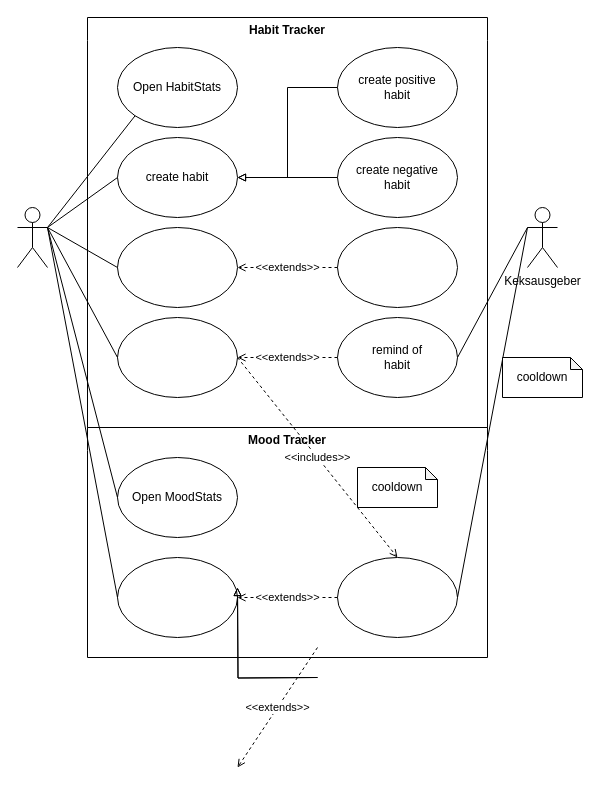
This 600x793 diagram has some shape labels left out. The centre of each missing label's shape, as x and y in pixels:
ask Mood: pixel 397 597
check habit: pixel 177 357
delete habit: pixel 397 267
edit habit: pixel 177 267
set Mood: pixel 177 597
User: pixel 32 237
